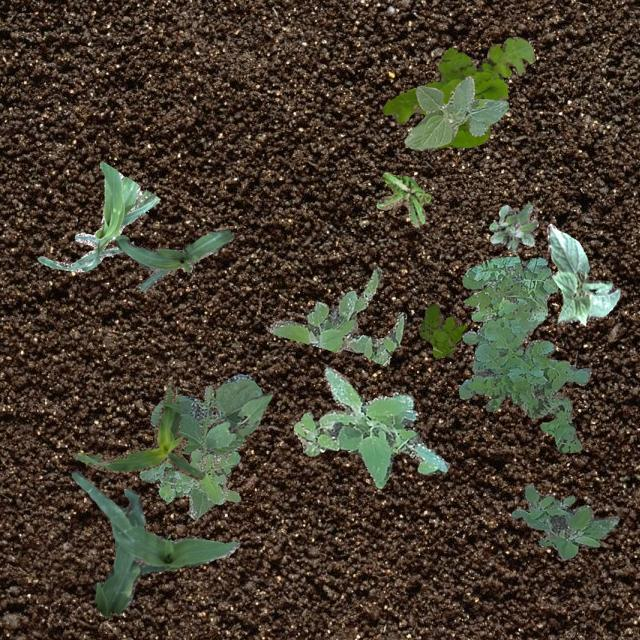crop: (70, 468, 238, 616), (150, 372, 260, 518), (36, 160, 158, 270), (72, 380, 204, 478), (403, 74, 508, 148), (546, 222, 618, 324), (114, 228, 232, 290), (202, 392, 272, 448)
weed: (458, 256, 590, 452), (292, 366, 448, 486), (380, 36, 534, 146), (267, 266, 405, 364), (509, 484, 618, 558), (138, 448, 240, 504), (376, 172, 430, 226), (488, 202, 538, 252), (418, 303, 464, 357)
